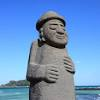Stone Statue: (24, 8, 81, 100)
